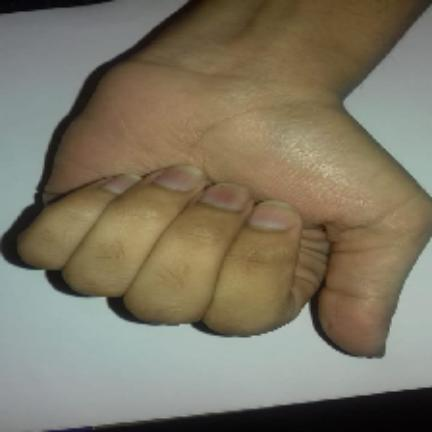Nail: (249, 200, 297, 231), (201, 182, 250, 211), (157, 164, 203, 192), (104, 172, 142, 194)
